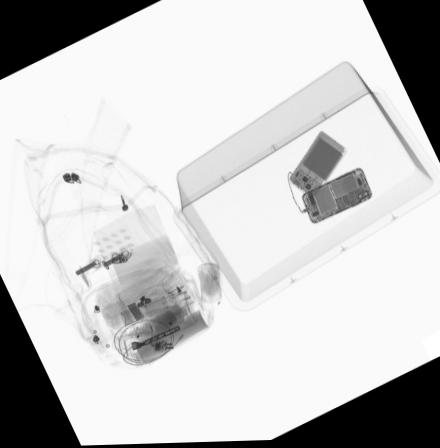Powerbank: (287, 132, 348, 201)
